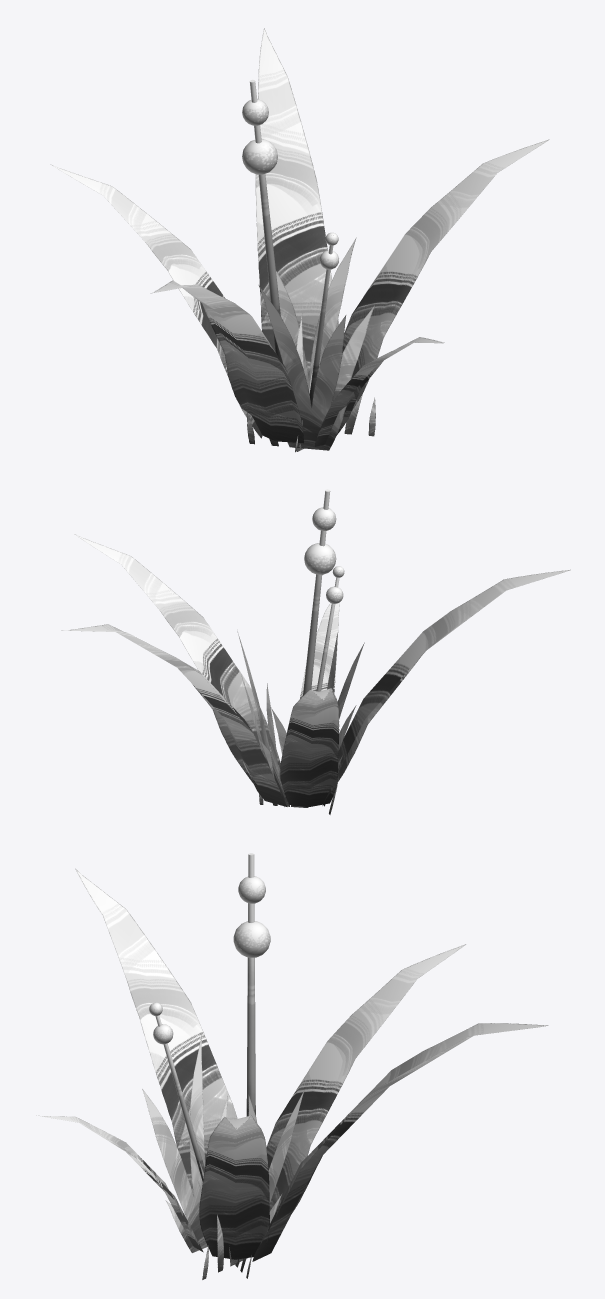
The model's file is plant1_test.FBX.
3 renders of one model, top to bottom at view 1: azimuth 30°, elevation 25°; view 2: azimuth 150°, elevation 25°; view 3: azimuth 270°, elevation 25°, orthographic. The views are drawn at different scales.
Visible parts, largest first — view 1: Plant 1; view 2: Plant 1; view 3: Plant 1.
Part boxes in pixels (<box>): Plant 1: <box>50,28,549,452</box>; Plant 1: <box>61,489,570,814</box>; Plant 1: <box>36,853,548,1279</box>.
Size of the model in its own units: 31.14 by 28.07 by 20.71.
